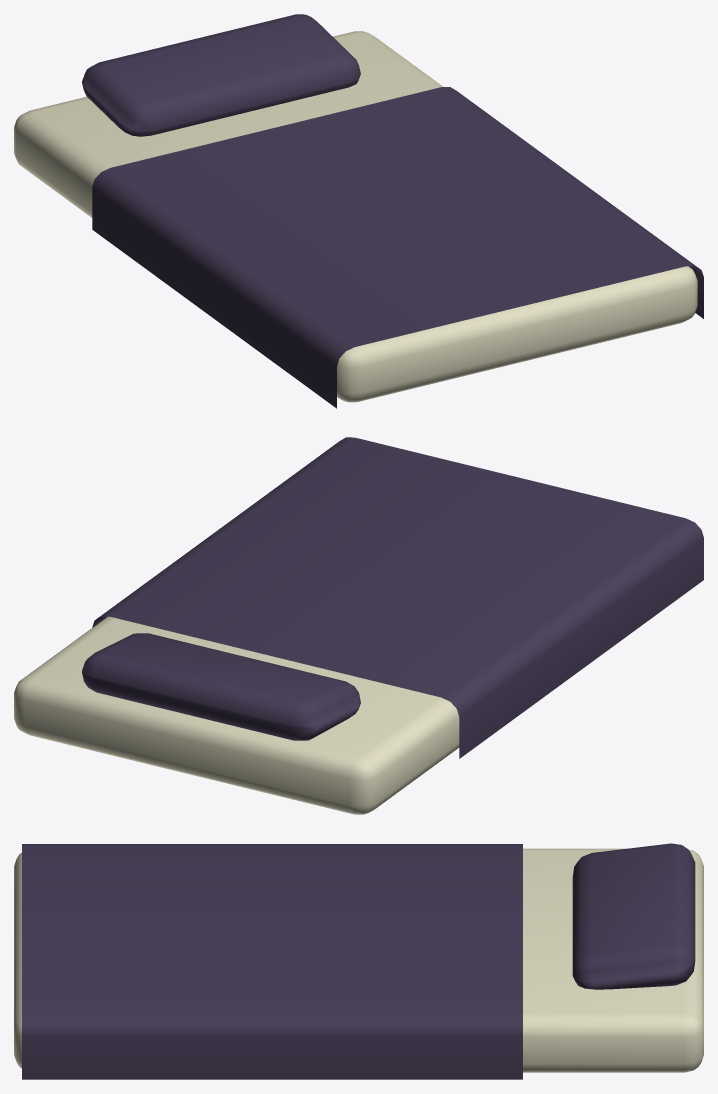
File: generic bed on floor.fbx
3 views of the same model, one above another, from view 1: azimuth 30°, elevation 25°; view 2: azimuth 150°, elevation 25°; view 3: azimuth 270°, elevation 25° (orthographic). The views are drawn at different scales.
Parts seen in each view (by area): view 1: Cube.009; view 2: Cube.009; view 3: Cube.009.
Boxes of the visible parts, x1,y1,x2,y2 form: Cube.009: [14, 14, 703, 408]; Cube.009: [14, 437, 703, 814]; Cube.009: [14, 843, 703, 1079].
Size of the model in its own units: 118 by 28.39 by 188.
